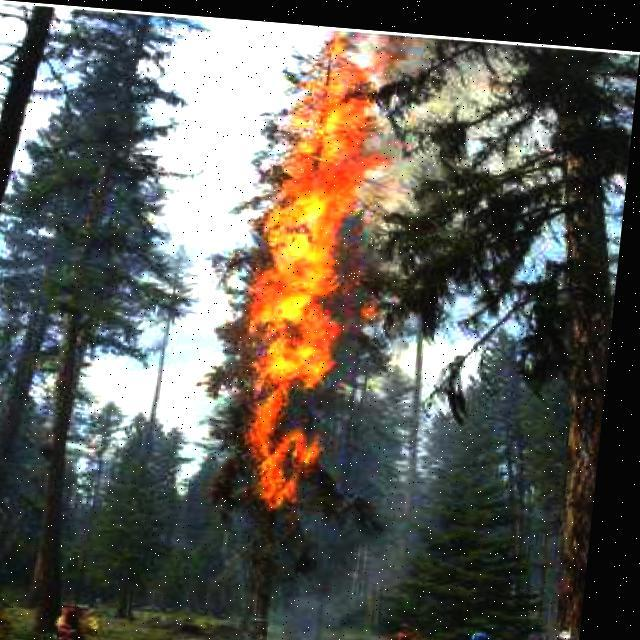Fire: (230, 64, 399, 512)
